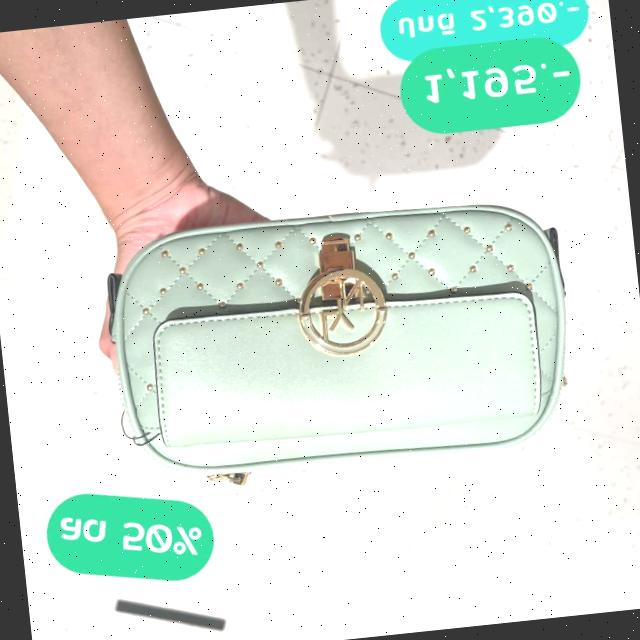handbag: (104, 188, 584, 514)
